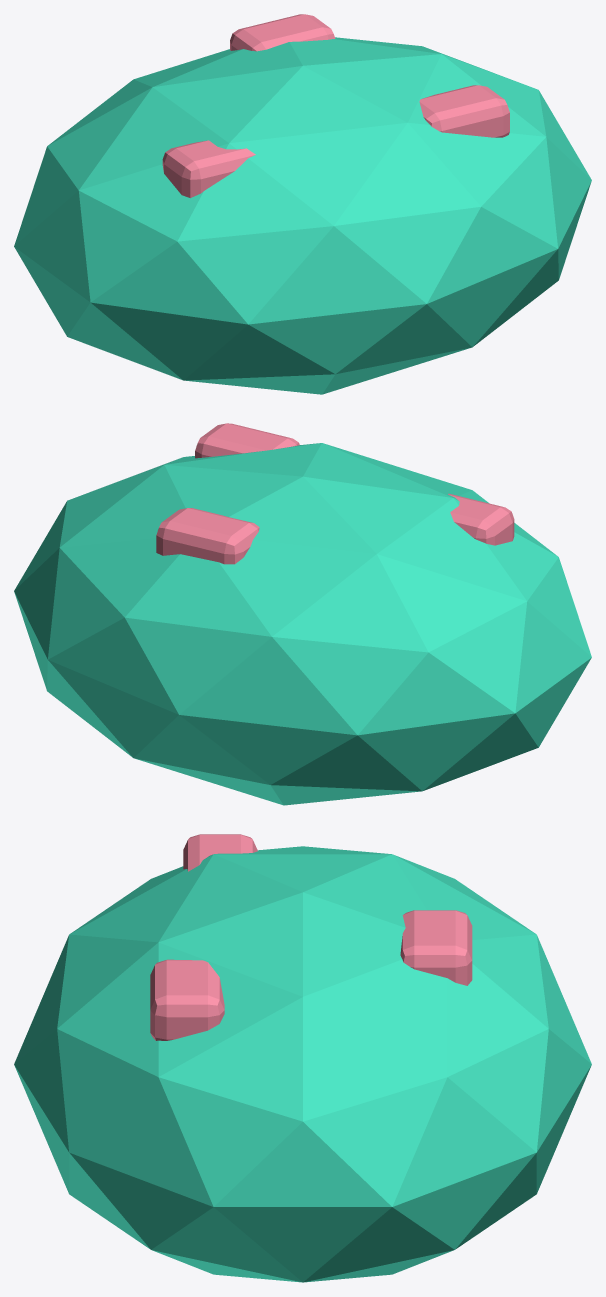
Rendered from gelato_mix.glb.
The picture shows the model from 3 angles, top to bottom: view 1: azimuth 30°, elevation 25°; view 2: azimuth 150°, elevation 25°; view 3: azimuth 270°, elevation 25°; orthographic projection. The views are drawn at different scales.
Visible parts, largest first — view 1: Mixture, Inclusion.001, Inclusion, Inclusion.002; view 2: Mixture, Inclusion.002, Inclusion.001, Inclusion; view 3: Mixture, Inclusion.001, Inclusion.002, Inclusion.
Part boxes in pixels (x1,y1,x2,y2): Mixture: [14, 37, 591, 394]; Inclusion.001: [419, 85, 509, 137]; Inclusion: [162, 140, 255, 197]; Inclusion.002: [230, 14, 335, 51]; Mixture: [14, 443, 591, 805]; Inclusion.002: [156, 508, 259, 564]; Inclusion.001: [195, 423, 299, 458]; Inclusion: [448, 493, 514, 545]; Mixture: [14, 846, 591, 1282]; Inclusion.001: [150, 959, 224, 1040]; Inclusion.002: [400, 910, 472, 985]; Inclusion: [183, 834, 257, 871].
Size of the model in its own units: 0.8179 by 0.46 by 0.7.
